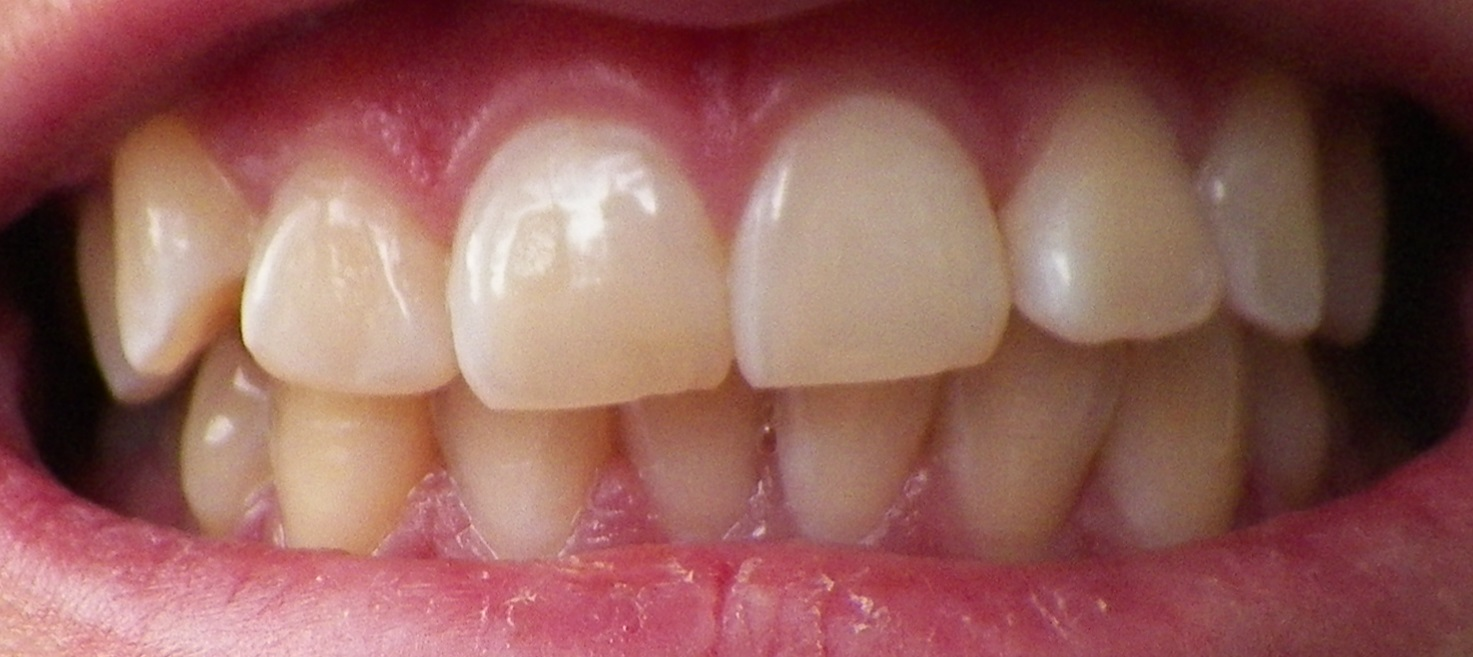boca: (38, 86, 1383, 545)
